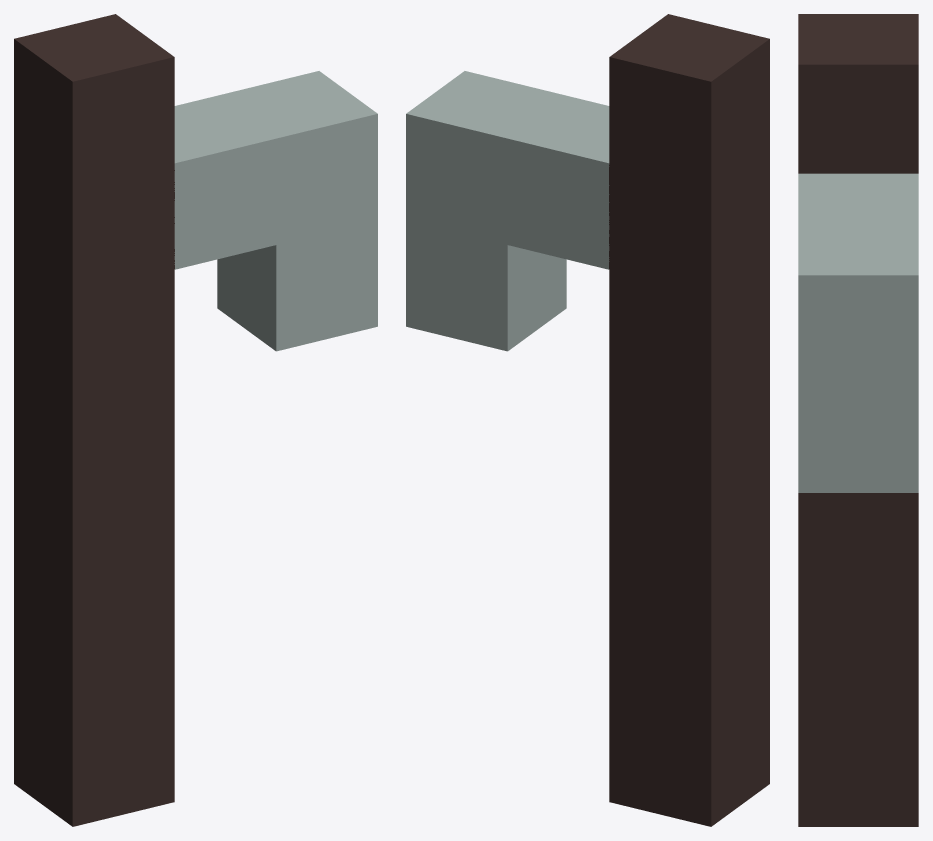
Rendered from tomahawk.fbx.
3 views of the same model, side by side, from view 1: azimuth 30°, elevation 25°; view 2: azimuth 150°, elevation 25°; view 3: azimuth 270°, elevation 25° (orthographic). The views are drawn at different scales.
Visible parts, largest first — view 1: tomahawk_0; view 2: tomahawk_0; view 3: tomahawk_0.
Boxes of the visible parts, x1=… form: tomahawk_0: x1=14, y1=14, x2=377, y2=826; tomahawk_0: x1=406, y1=14, x2=769, y2=826; tomahawk_0: x1=798, y1=14, x2=918, y2=826.
Bounding box in the file's own units: 300 × 100 × 700.
